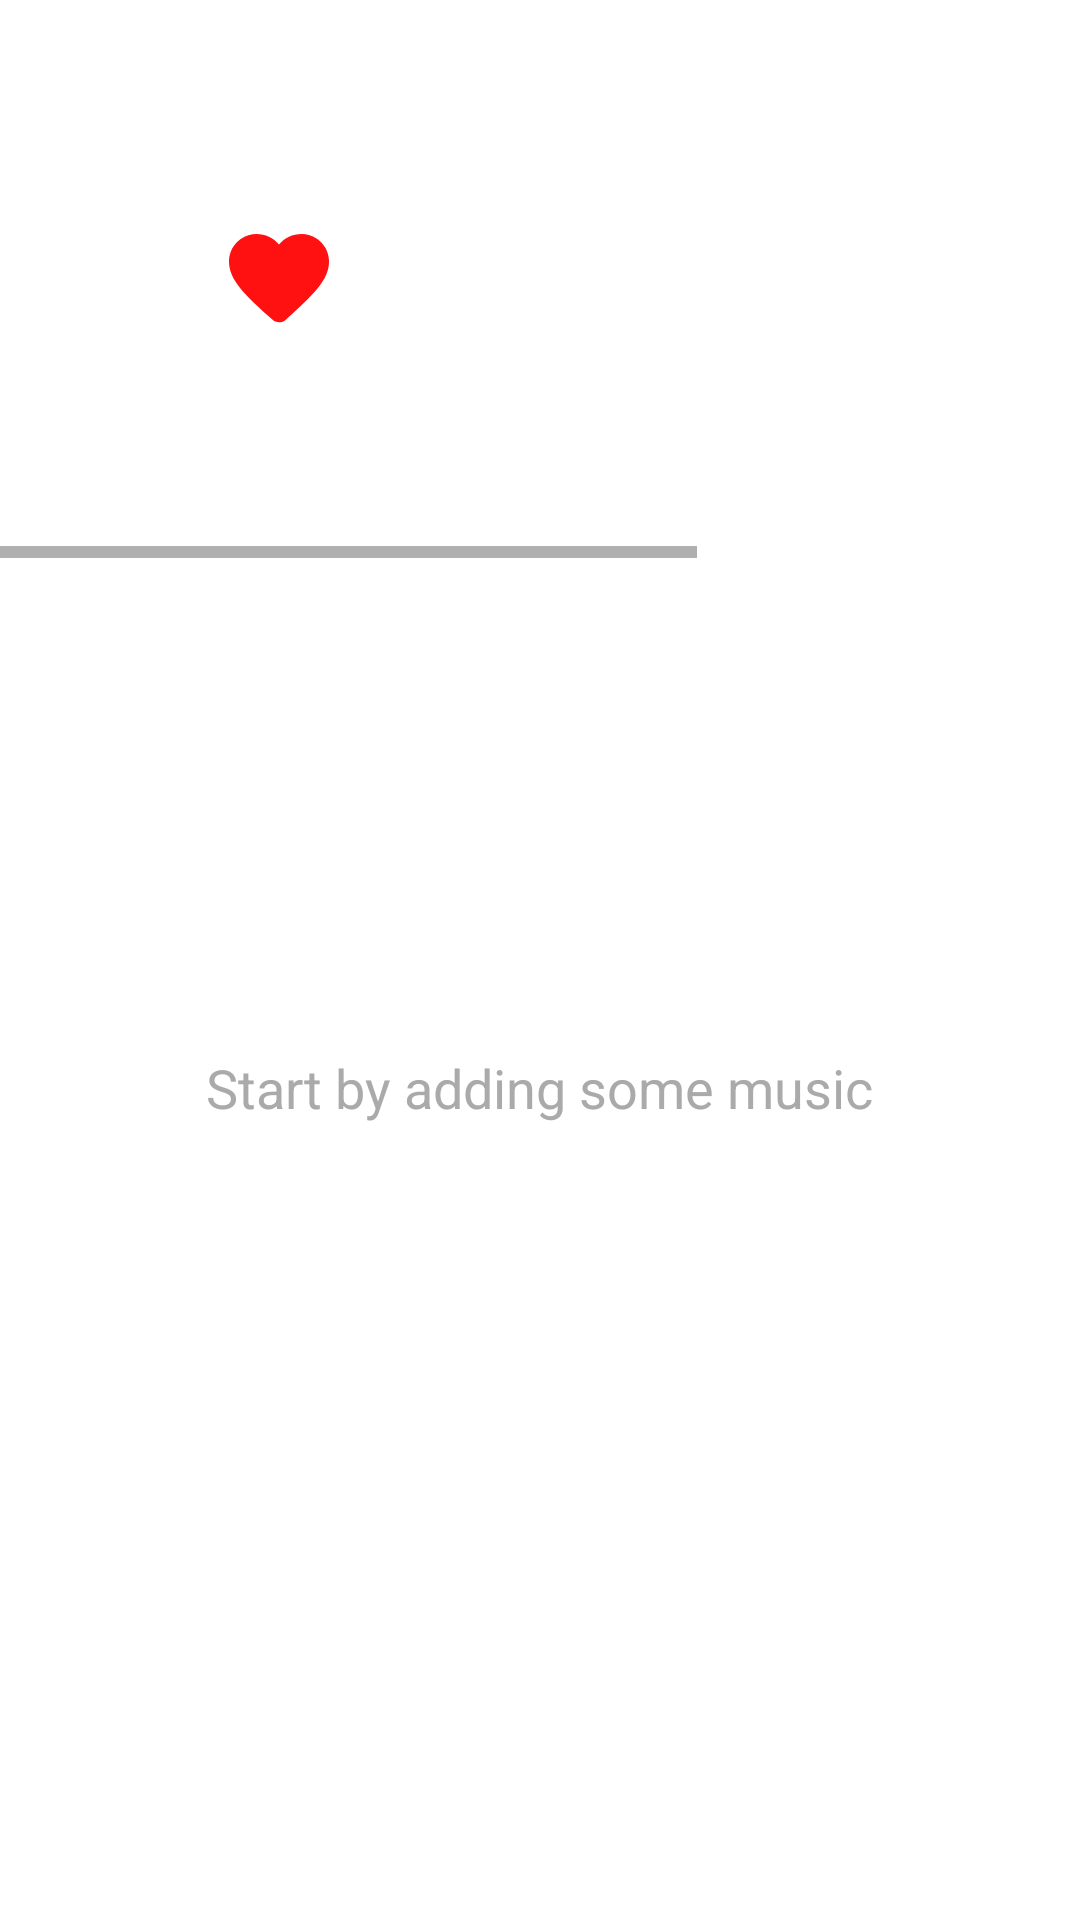

Locate icon controls on the screen. Image size 1080w x 1920h, boxes as (left=x1, top=y1, right=x2, bottom=y2).
favorite: (left=229, top=234, right=329, bottom=323)
